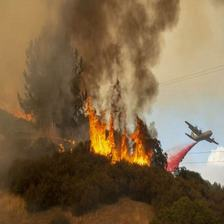fire: (60, 65, 168, 173)
